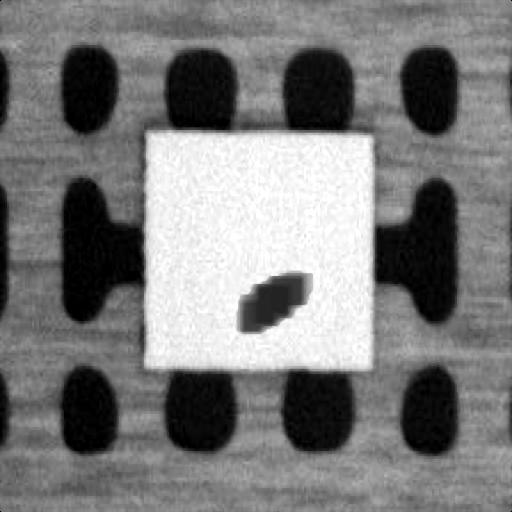DIE_INK: (233, 262, 313, 332)
